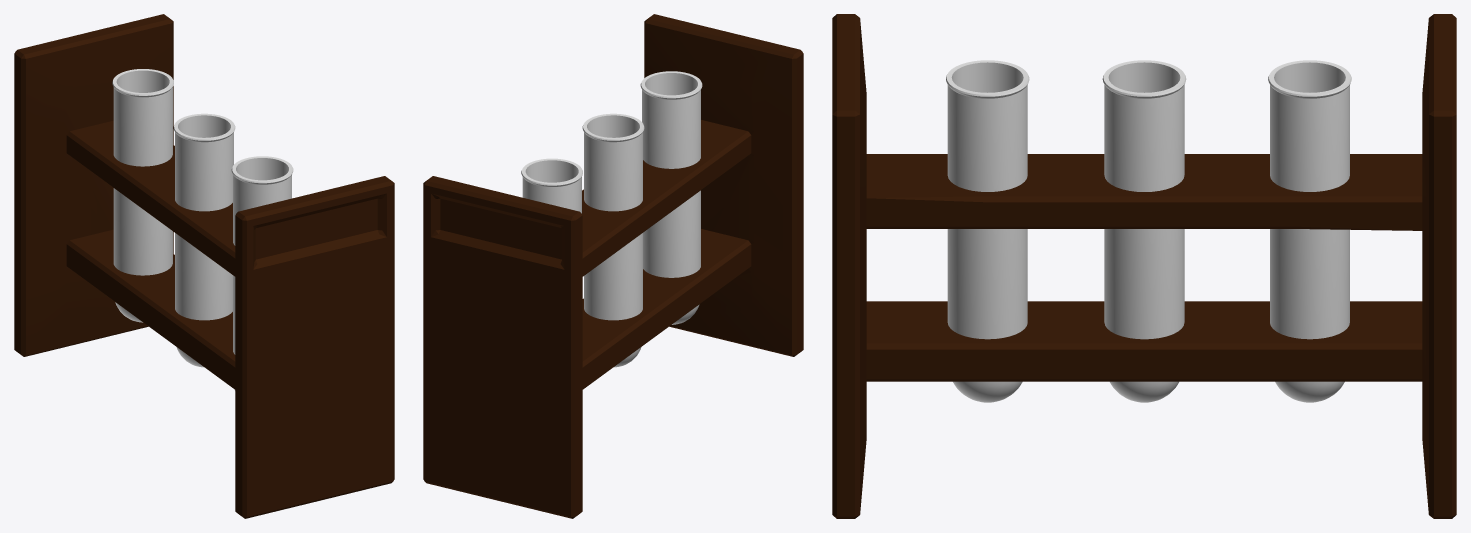
Rendered from test tube holder (1).fbx.
3 views of the same model, side by side, from view 1: azimuth 30°, elevation 25°; view 2: azimuth 150°, elevation 25°; view 3: azimuth 270°, elevation 25° (orthographic). The views are drawn at different scales.
Visible parts, largest first — view 1: Cube, Sphere.002, Sphere, Sphere.001; view 2: Cube, Sphere, Sphere.001, Sphere.002; view 3: Cube, Sphere, Sphere.001, Sphere.002.
Part boxes in pixels (<box>): Cube: <box>14,14,394,518</box>; Sphere.002: <box>112,69,173,322</box>; Sphere: <box>173,113,235,367</box>; Sphere.001: <box>231,156,293,390</box>; Cube: <box>423,14,803,518</box>; Sphere: <box>582,113,644,367</box>; Sphere.001: <box>640,71,702,324</box>; Sphere.002: <box>521,158,582,213</box>; Cube: <box>832,14,1456,518</box>; Sphere: <box>1102,60,1186,402</box>; Sphere.001: <box>946,60,1029,402</box>; Sphere.002: <box>1268,60,1351,402</box>.
Size of the model in its own units: 258 by 489 by 677.
